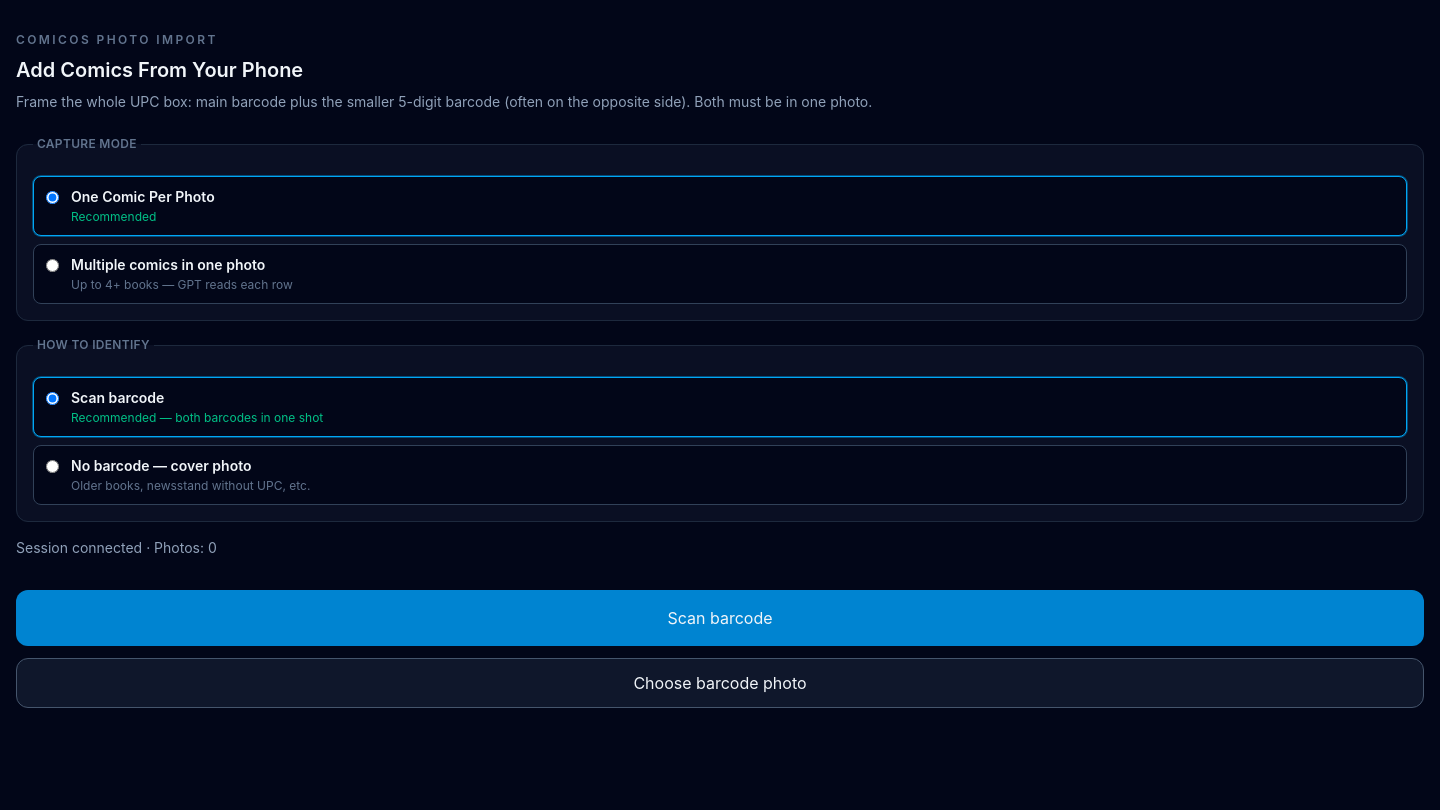
it: PhotoImportMobilePage › uploads cover intent when user selects no barcode
Check: the button "Scan barcode" is shown, box [16,590,1424,646]
Click the text "No barcode — cover photo": [161, 466] box [33,445,1407,505]
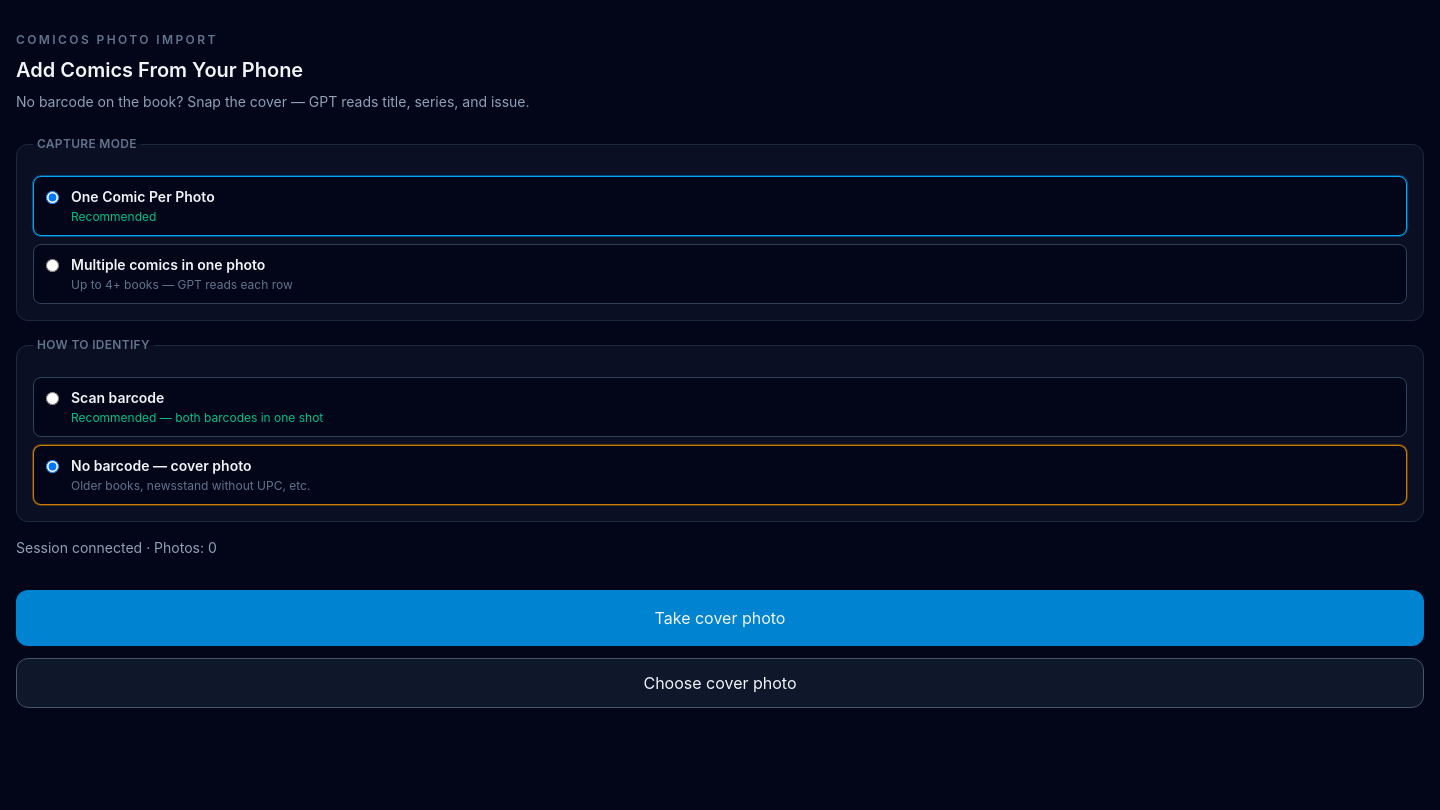
Check: the button "Take cover photo" is shown, box [16,590,1424,646]
